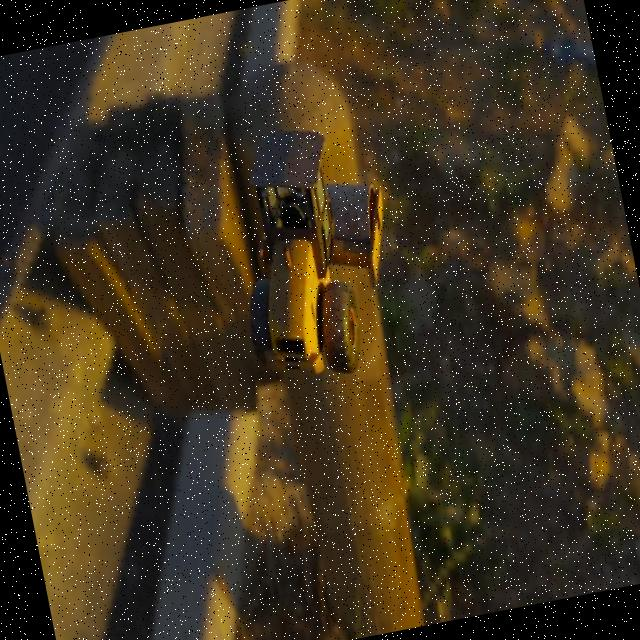Roller: (212, 112, 414, 390)
